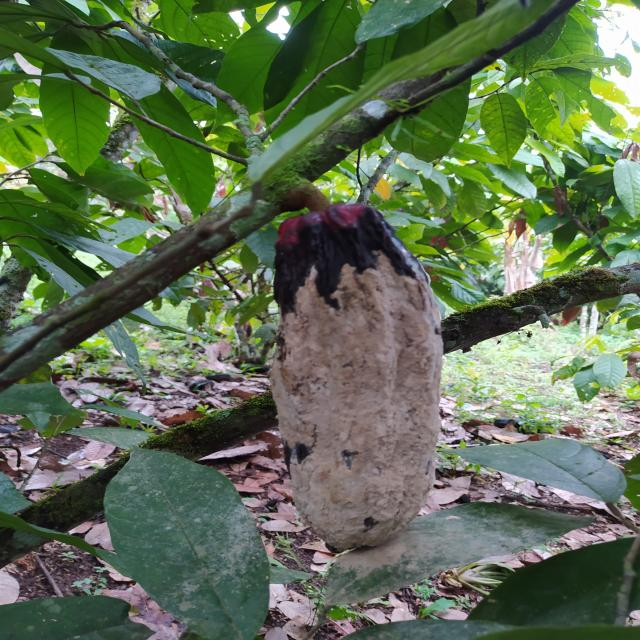Monilia: (271, 205, 445, 554)
